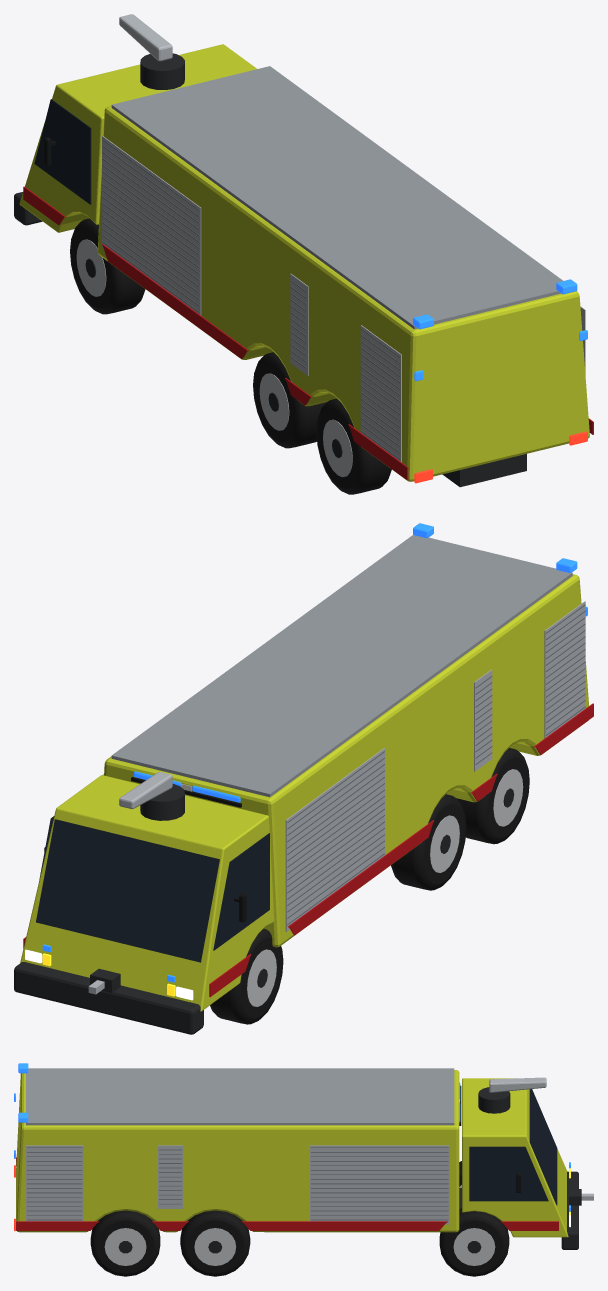
3 renders of one model, top to bottom at view 1: azimuth 30°, elevation 25°; view 2: azimuth 150°, elevation 25°; view 3: azimuth 270°, elevation 25°, orthographic. The views are drawn at different scales.
Visible parts, largest first — view 1: nadgradnja, streha, rolete, kabina, utori, trak, okno, guma2-1, guma1-1, guma0-1, top_osn, sasija (+4 smaller); view 2: streha, nadgradnja, kabina, vetrobran, rolete, odbijac, utori, trak, okno, guma1-1, guma2-1, guma0-1 (+5 smaller); view 3: nadgradnja, streha, rolete, kabina, utori, okno.001, trak, guma11, guma21, guma01, vetrobran, platisce11 (+5 smaller).
Boxes of the visible parts, bbox=[...] form: nadgradnja: bbox=[97, 106, 589, 481]; streha: bbox=[111, 66, 562, 329]; rolete: bbox=[102, 136, 585, 462]; kabina: bbox=[19, 44, 256, 232]; utori: bbox=[102, 139, 400, 459]; trak: bbox=[23, 186, 593, 480]; okno: bbox=[34, 99, 91, 204]; guma2-1: bbox=[316, 398, 391, 494]; guma1-1: bbox=[253, 352, 326, 448]; guma0-1: bbox=[70, 218, 145, 314]; top_osn: bbox=[140, 53, 184, 89]; sasija: bbox=[442, 454, 526, 487]; streha: bbox=[111, 534, 572, 797]; nadgradnja: bbox=[104, 574, 588, 947]; kabina: bbox=[20, 775, 274, 1011]; vetrobran: bbox=[36, 819, 219, 962]; rolete: bbox=[103, 601, 585, 931]; odbijac: bbox=[14, 962, 203, 1034]; utori: bbox=[287, 604, 585, 924]; trak: bbox=[23, 703, 593, 997]; okno: bbox=[213, 833, 269, 950]; guma1-1: bbox=[391, 794, 466, 890]; guma2-1: bbox=[456, 748, 529, 844]; guma0-1: bbox=[210, 928, 283, 1024]; nadgradnja: bbox=[16, 1070, 459, 1232]; streha: bbox=[26, 1068, 454, 1125]; rolete: bbox=[26, 1145, 449, 1224]; kabina: bbox=[462, 1078, 568, 1237]; utori: bbox=[27, 1147, 448, 1220]; okno.001: bbox=[469, 1146, 548, 1201]; trak: bbox=[16, 1157, 558, 1230]; guma11: bbox=[180, 1210, 250, 1276]; guma21: bbox=[90, 1210, 160, 1276]; guma01: bbox=[439, 1208, 509, 1276]; vetrobran: bbox=[529, 1089, 557, 1205]; platisce11: bbox=[194, 1228, 235, 1265].
Bounding box in the file's own units: 3.28 × 3.76 × 11.64.
